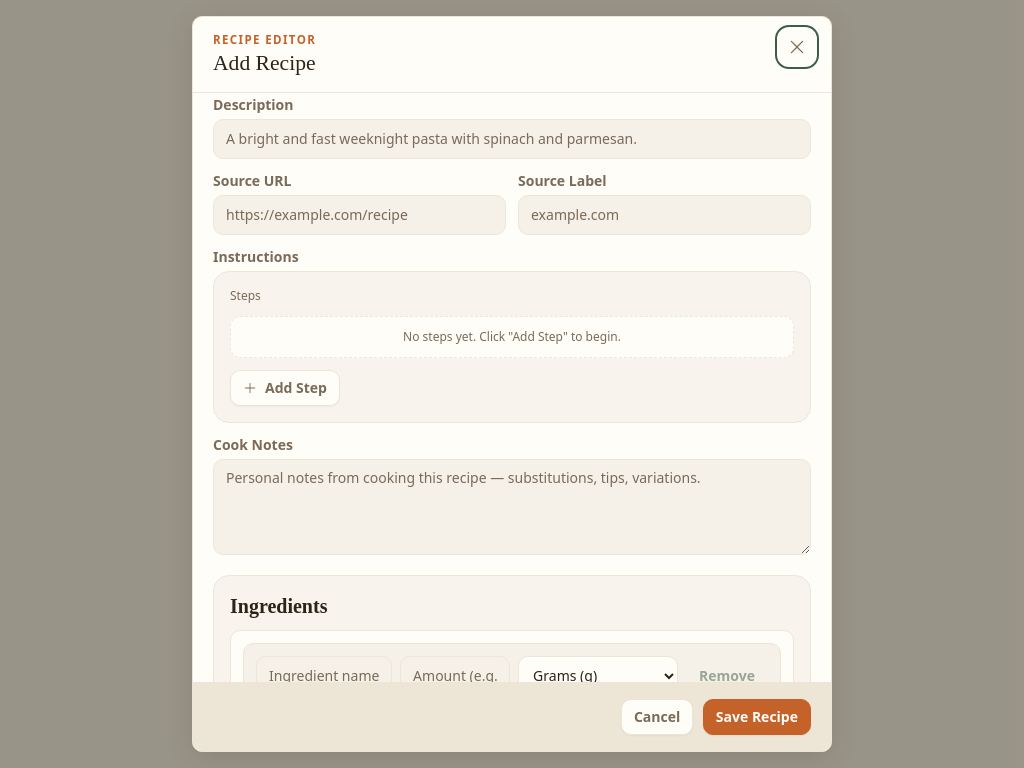
Test: AddRecipeModal › names instruction reorder controls and preserves disabled boundaries
(page scrolled)
Click the button "Add Step" at (285, 388), box [230, 370, 340, 406]
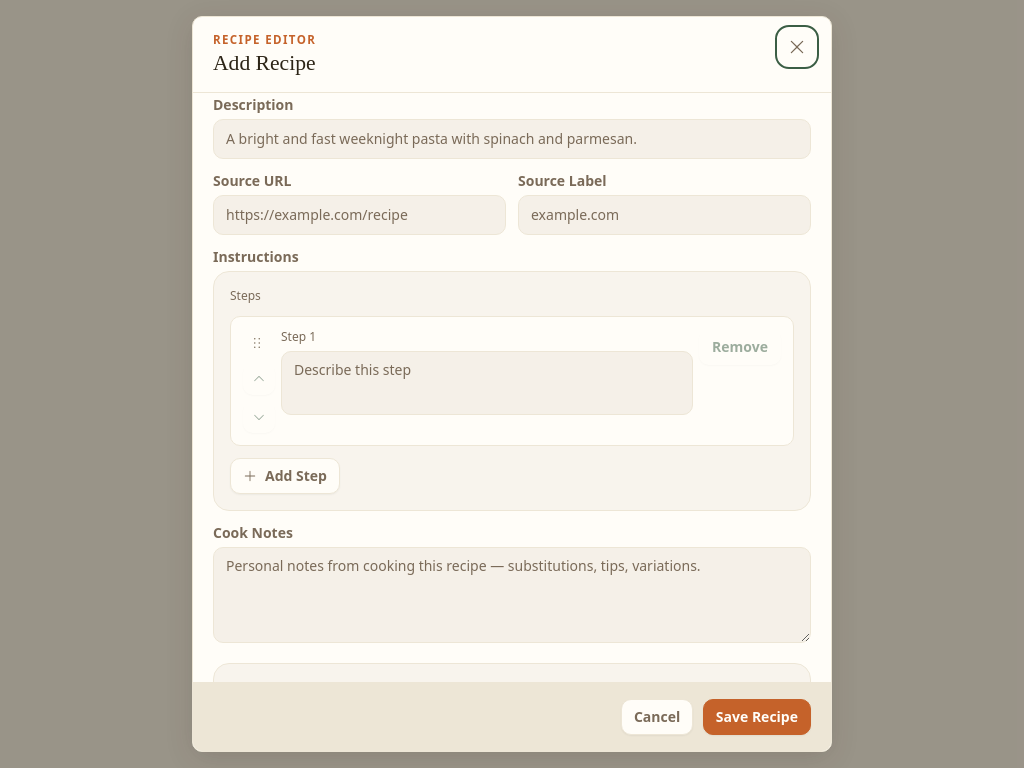
Result: the button named "Move step 1 up" is disabled at [243, 363, 275, 395]
Result: the button named "Move step 1 down" is disabled at [243, 401, 275, 433]
